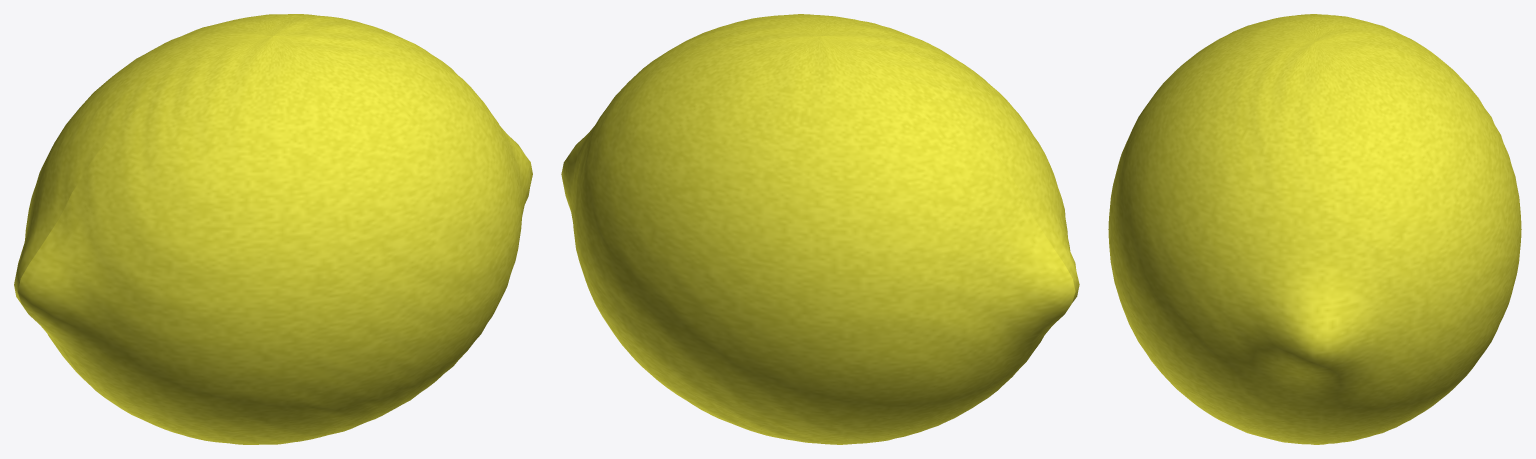
Rendered from local.glb.
3 views of the same model, side by side, from view 1: azimuth 30°, elevation 25°; view 2: azimuth 150°, elevation 25°; view 3: azimuth 270°, elevation 25° (orthographic). The views are drawn at different scales.
Parts seen in each view (by area): view 1: lemon; view 2: lemon; view 3: lemon.
Part boxes in pixels (x1,y1,x2,y2): lemon: [14, 14, 532, 444]; lemon: [561, 14, 1079, 444]; lemon: [1108, 14, 1521, 444].
Bounding box in the file's own units: 0.072 × 0.0521 × 0.052.
Materials: 1 (1 with a texture image).
